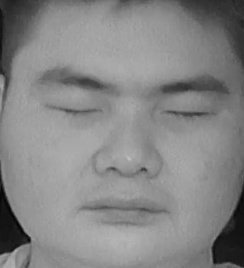blink: (45, 90, 100, 125), (165, 96, 212, 127)
mouth: (72, 185, 169, 236)
